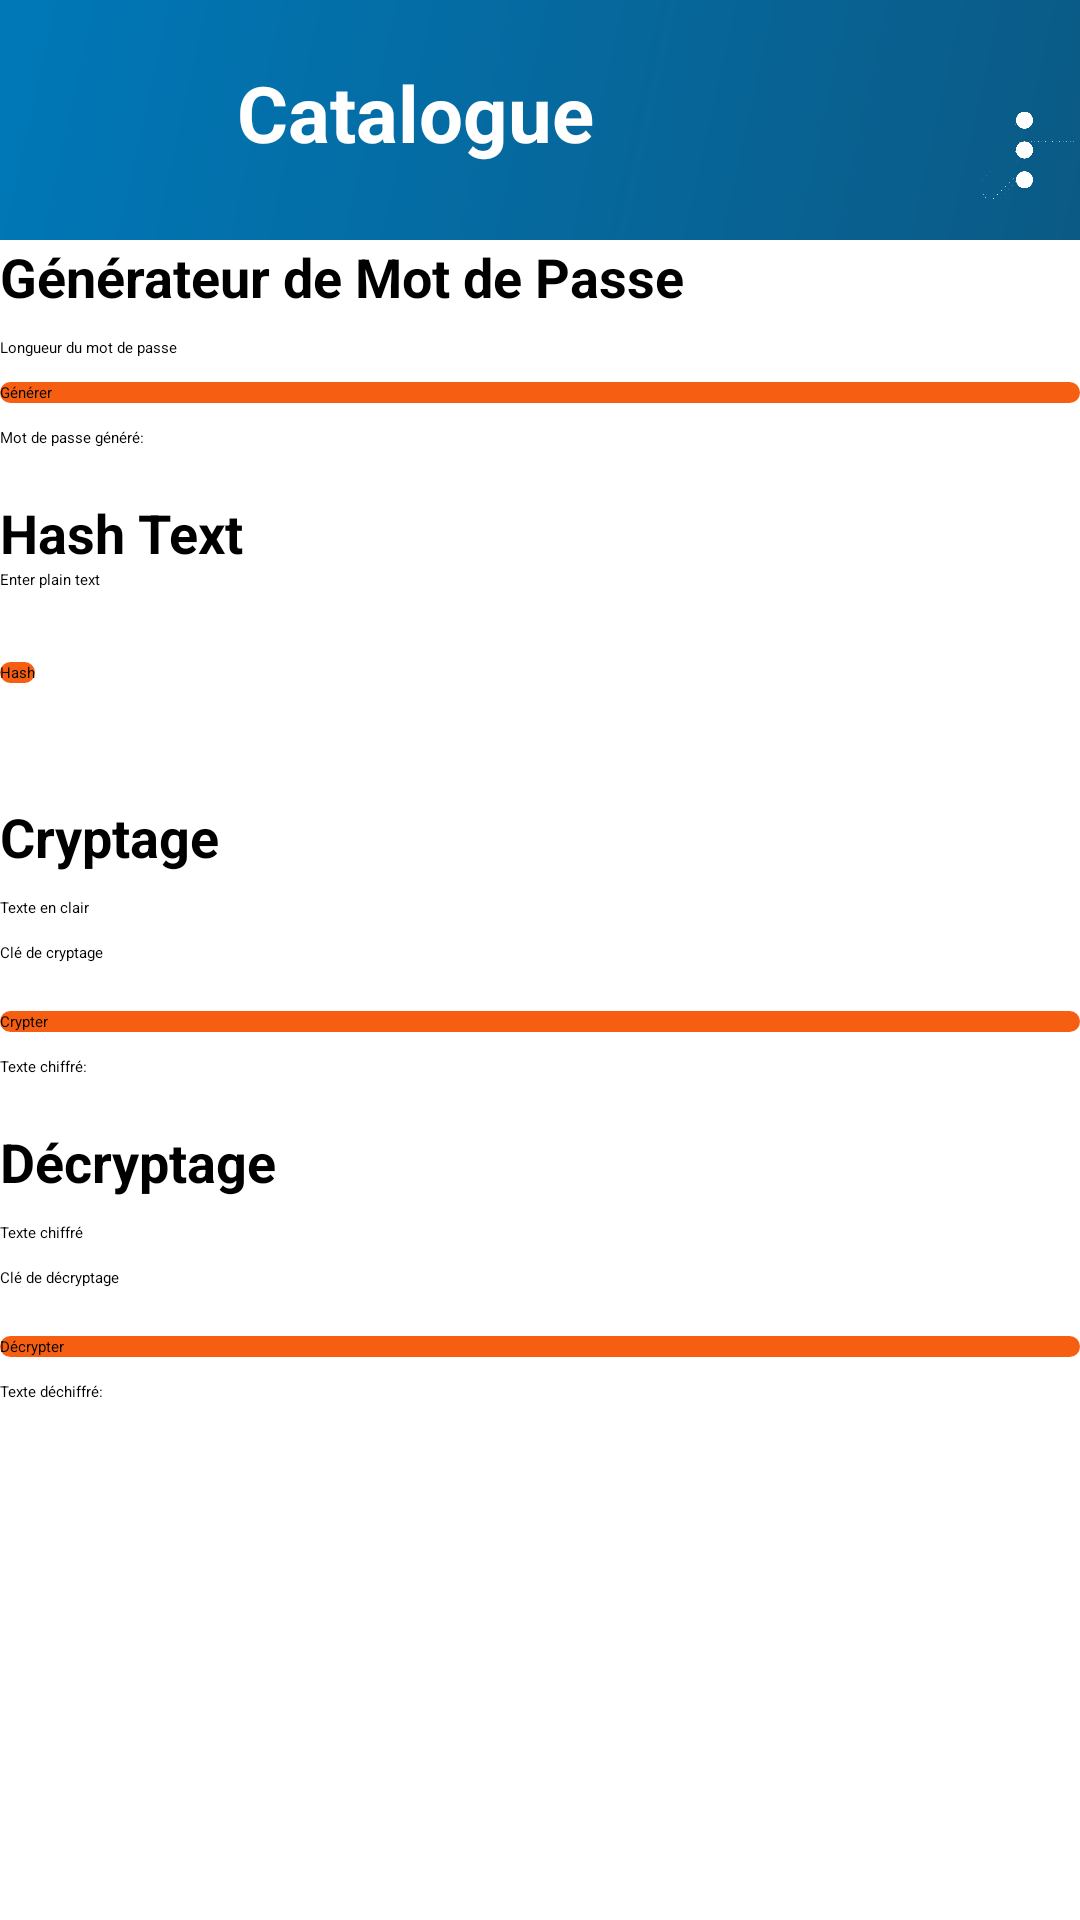

Where to tap for icons on this 1080*1920 app screen, as [x,y]:
settings menu: [1028,155]
